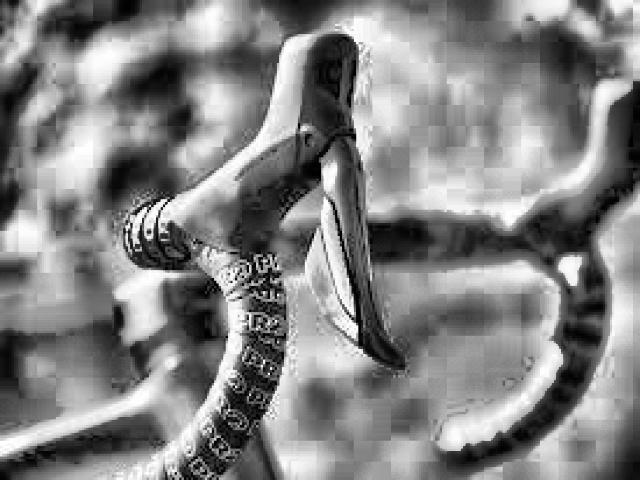sti_shifter: (256, 31, 408, 386)
